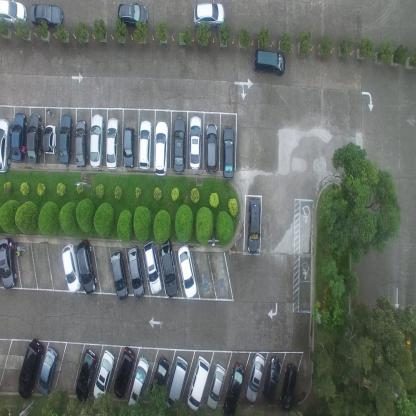car: (17, 337, 44, 399), (186, 355, 210, 410), (222, 360, 245, 415), (158, 236, 178, 298), (166, 354, 188, 409), (76, 238, 97, 295), (148, 354, 170, 406), (127, 356, 149, 408), (113, 346, 135, 398), (92, 349, 114, 401), (75, 348, 96, 402), (36, 346, 58, 396), (245, 352, 266, 404), (178, 243, 198, 297), (61, 243, 82, 293), (143, 240, 162, 295), (192, 0, 226, 30), (127, 244, 145, 299), (207, 362, 227, 411), (279, 362, 298, 413), (0, 235, 17, 291), (30, 2, 64, 30), (110, 250, 129, 300), (10, 112, 28, 163), (262, 355, 281, 403), (252, 50, 284, 78), (117, 1, 149, 29), (0, 0, 28, 30), (26, 112, 42, 164), (155, 120, 169, 178), (247, 195, 261, 253), (58, 112, 73, 165), (189, 114, 203, 170), (90, 113, 104, 168), (106, 115, 120, 169), (173, 116, 186, 173), (205, 122, 219, 174), (222, 126, 235, 180), (139, 118, 152, 170), (0, 117, 12, 173), (74, 117, 87, 168), (122, 126, 136, 169), (43, 124, 56, 154)
